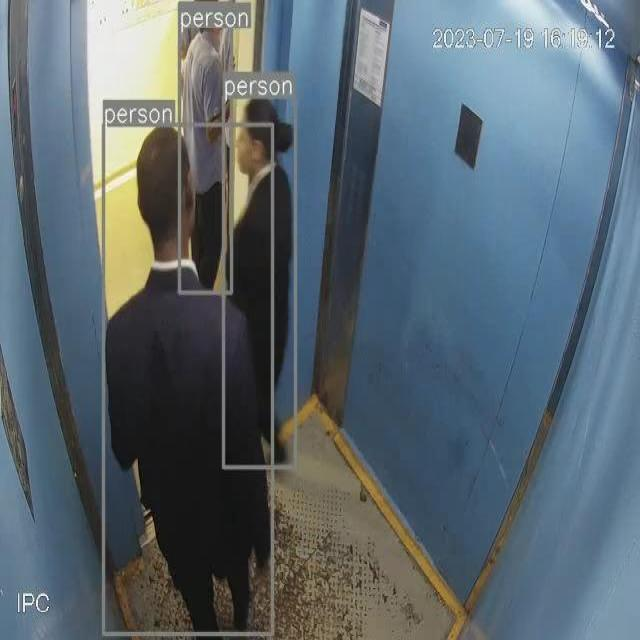person: (105, 121, 273, 634), (228, 96, 293, 465), (179, 23, 231, 289)
